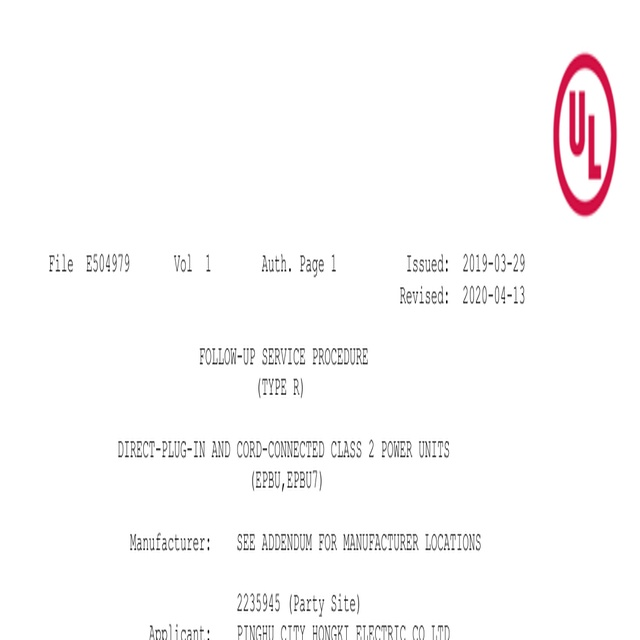ul: (555, 53, 619, 218)
